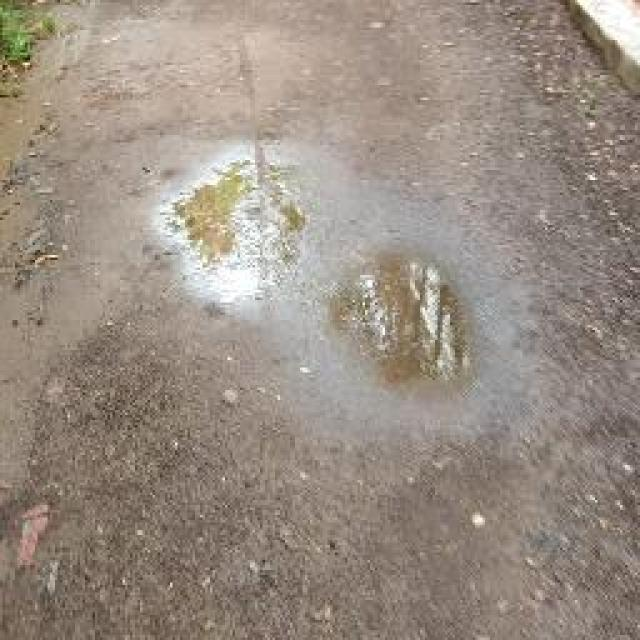puddle: (335, 258, 475, 394), (171, 170, 302, 297)
